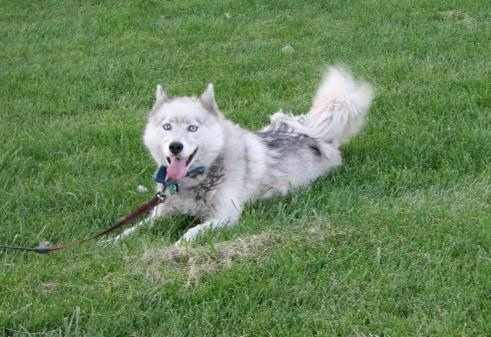dog: (103, 59, 377, 252)
